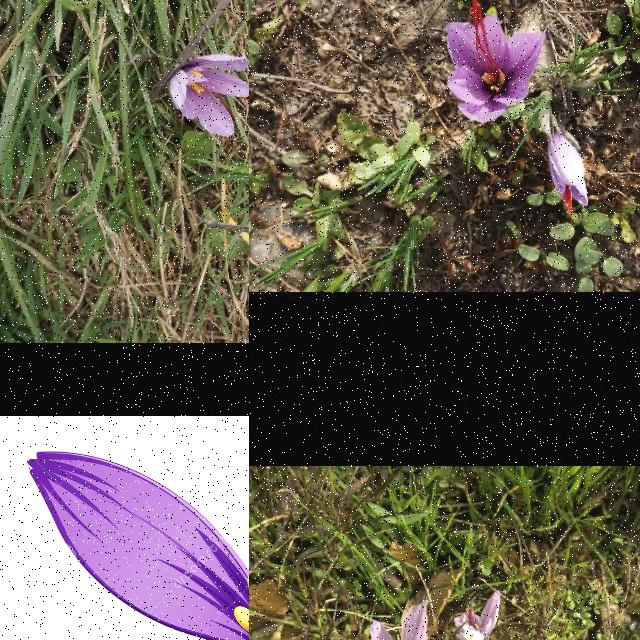flower: (446, 0, 548, 124), (169, 54, 249, 138), (326, 599, 451, 640), (546, 131, 590, 215), (454, 591, 500, 640)
